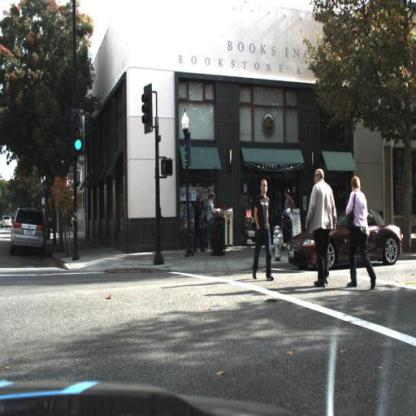car: (287, 205, 404, 270), (347, 174, 373, 293), (9, 201, 50, 263)
pedestrian: (306, 168, 338, 289), (251, 179, 277, 284), (192, 191, 208, 258), (207, 189, 219, 258), (276, 190, 290, 249)
trafficLight-Green: (73, 110, 86, 154)
